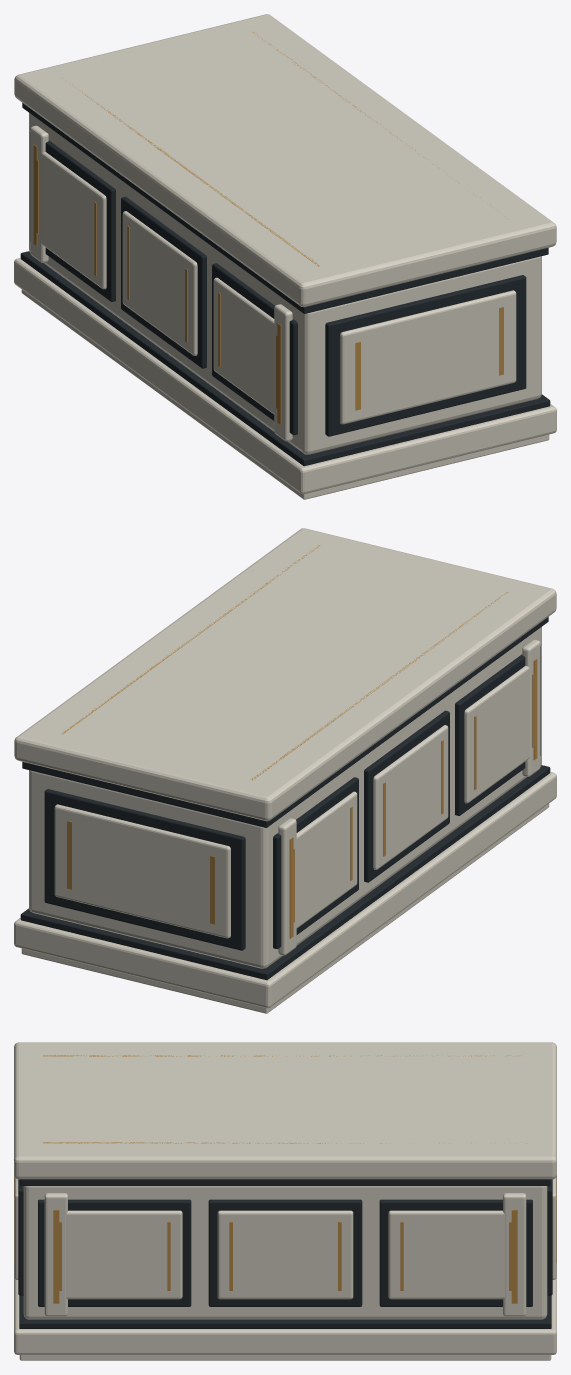
File: SM_Aurelion_KIT_CoverCofferStack.fbx
3 renders of one model, top to bottom at view 1: azimuth 30°, elevation 25°; view 2: azimuth 150°, elevation 25°; view 3: azimuth 270°, elevation 25°, orthographic. The views are drawn at different scales.
Visible parts, largest first — view 1: SM_Aurelion_KIT_CoverCofferStack; view 2: SM_Aurelion_KIT_CoverCofferStack; view 3: SM_Aurelion_KIT_CoverCofferStack.
Part boxes in pixels (x1,y1,x2,y2): SM_Aurelion_KIT_CoverCofferStack: [14, 14, 556, 499]; SM_Aurelion_KIT_CoverCofferStack: [14, 528, 556, 1013]; SM_Aurelion_KIT_CoverCofferStack: [14, 1042, 556, 1360].
Size of what is drawn, in the model's own units: 143 by 280 by 117.
